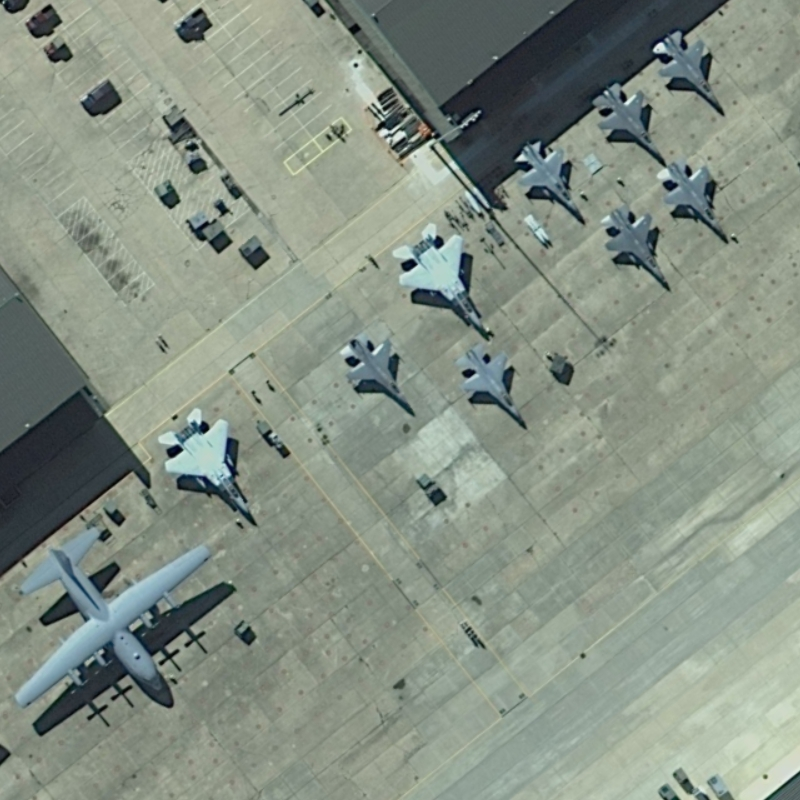A13: (152, 404, 267, 533), (387, 222, 501, 344)
A2: (10, 519, 221, 720)
A5: (654, 152, 740, 250), (333, 328, 424, 418), (649, 25, 732, 123), (450, 338, 529, 437), (593, 197, 673, 293), (588, 78, 675, 166), (508, 131, 589, 222)
